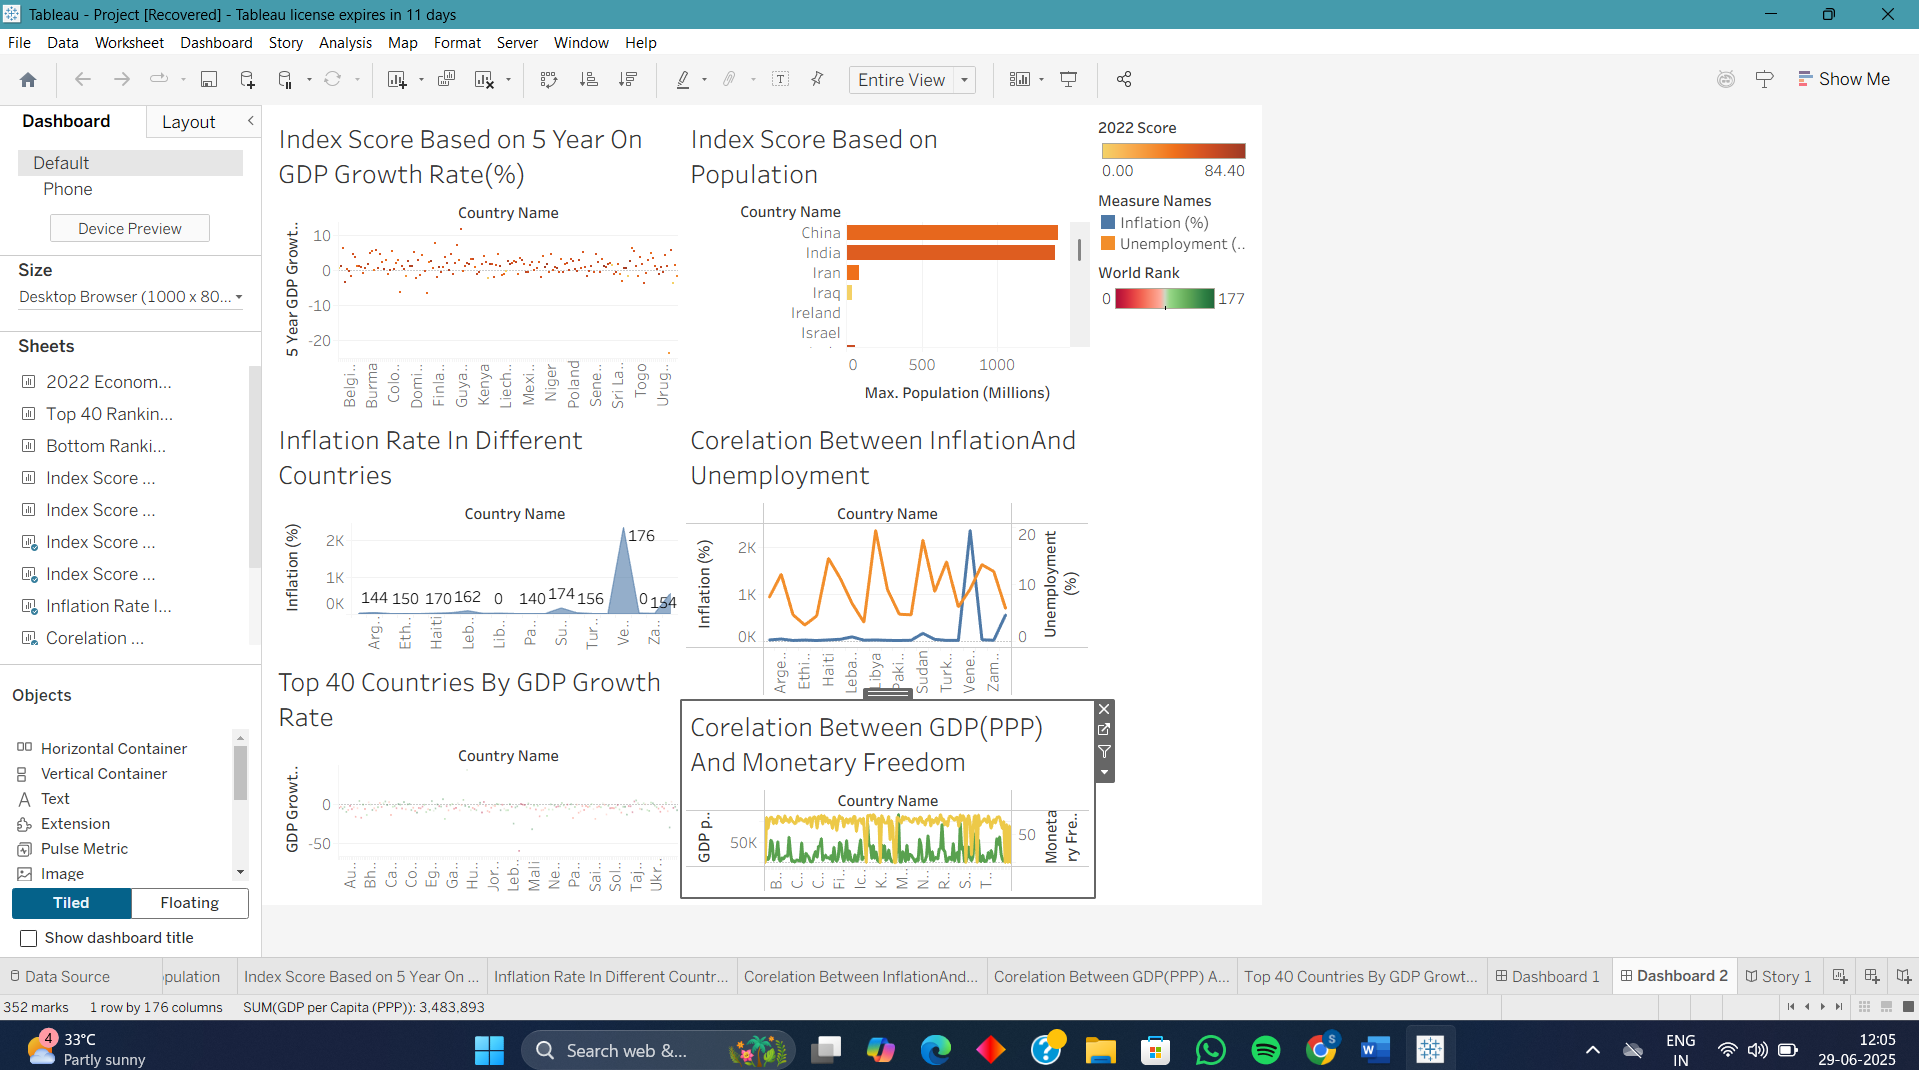

The page's visual inventory and layout, read from the dashboard file:
{"tool":"tableau","page":{"name":"Dashboard 2","canvas":[1000,800],"ordinal":1},"visuals":[{"type":"worksheet","title":"Index Score Based on 5 Year On  GDP Growth Rate(%)","mark":"GanttBar","rows":["5 Year GDP Growth Rate (%)"],"cols":["Country Name"],"box":[8,8,412,301]},{"type":"worksheet","title":"Index Score Based on Population","mark":"Bar","rows":["Country Name"],"cols":["Population (Millions)"],"box":[420,8,412,301]},{"type":"legend","title":"Index Score Based on Population","param":"[federated.0me96kp1oxqt5f1fq1sfs1ern03u].[sum:2022 Score:qk]","box":[832,8,160,73]},{"type":"legend","title":"Corelation Between InflationAnd Unemployment","param":"[federated.0me96kp1oxqt5f1fq1sfs1ern03u].[:Measure Names]","box":[832,81,160,72]},{"type":"legend","title":"Top 40 Countries By GDP Growth Rate","param":"[federated.0me96kp1oxqt5f1fq1sfs1ern03u].[sum:World Rank:qk]","box":[832,153,160,73]},{"type":"worksheet","title":"Inflation Rate In Different Countries","mark":"Area","rows":["Inflation (%)"],"cols":["Country Name"],"box":[8,309,412,241.5]},{"type":"worksheet","title":"Corelation Between InflationAnd Unemployment","mark":"Line","rows":["Inflation (%)","Unemployment (%)"],"cols":["Country Name"],"box":[420,309,412,287]},{"type":"worksheet","title":"Top 40 Countries By GDP Growth Rate","mark":"Shape","rows":["GDP Growth Rate (%)"],"cols":["Country Name"],"box":[8,550.5,412,241.5]},{"type":"worksheet","title":"Corelation Between GDP(PPP) And Monetary Freedom","mark":"Line","rows":["GDP per Capita (PPP)","Monetary Freedom"],"cols":["Country Name"],"box":[420,596,412,196]}]}

Visuals, with their boxes on the page's 1000x800 design canvas (x1, y1, x2, y2). These are canvas units, not pixel positions in the 1919x1070 screenshot, which may show the page scaled, cropped or inside an application window:
"Index Score Based on 5 Year On  GDP Growth Rate(%)" worksheet (GanttBar marks): <bbox>8, 8, 420, 309</bbox>
"Index Score Based on Population" worksheet (Bar marks): <bbox>420, 8, 832, 309</bbox>
"Index Score Based on Population" legend: <bbox>832, 8, 992, 81</bbox>
"Corelation Between InflationAnd Unemployment" legend: <bbox>832, 81, 992, 153</bbox>
"Top 40 Countries By GDP Growth Rate" legend: <bbox>832, 153, 992, 226</bbox>
"Inflation Rate In Different Countries" worksheet (Area marks): <bbox>8, 309, 420, 550</bbox>
"Corelation Between InflationAnd Unemployment" worksheet (Line marks): <bbox>420, 309, 832, 596</bbox>
"Top 40 Countries By GDP Growth Rate" worksheet (Shape marks): <bbox>8, 550, 420, 792</bbox>
"Corelation Between GDP(PPP) And Monetary Freedom" worksheet (Line marks): <bbox>420, 596, 832, 792</bbox>
